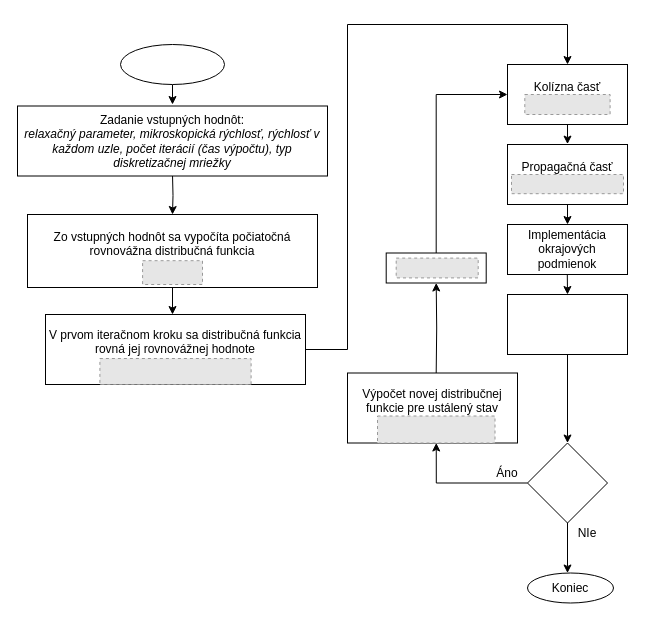
Image size: 645x621. Some labels were removed from this diagram. Grey dashed boxes stand in for pictures. Each missing label, with the centre of its shape:
Prepočet makroskopických veličín: point 567,324
t < T: point 567,482
Začiatok: point 172,64
